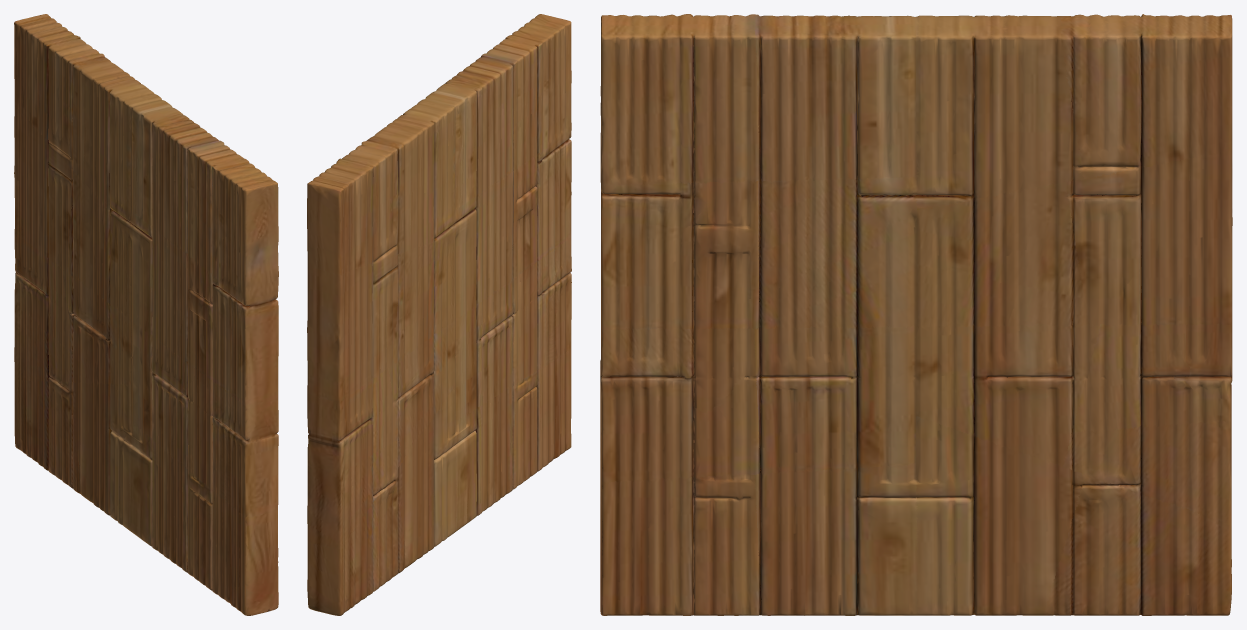
File: 木质护墙板.glb
3 views of the same model, side by side, from view 1: azimuth 30°, elevation 25°; view 2: azimuth 150°, elevation 25°; view 3: azimuth 270°, elevation 25° (orthographic). The views are drawn at different scales.
Parts seen in each view (by area): view 1: tripo_node_94808763-8398-491f-86ec-961428207524; view 2: tripo_node_94808763-8398-491f-86ec-961428207524; view 3: tripo_node_94808763-8398-491f-86ec-961428207524.
Part boxes in pixels (x1=…): tripo_node_94808763-8398-491f-86ec-961428207524: x1=14, y1=14, x2=278, y2=615; tripo_node_94808763-8398-491f-86ec-961428207524: x1=307, y1=14, x2=571, y2=615; tripo_node_94808763-8398-491f-86ec-961428207524: x1=600, y1=14, x2=1232, y2=615.
Size of the model in its own units: 0.0857 by 1 by 0.9852.
Materials: 1 (1 with a texture image).
